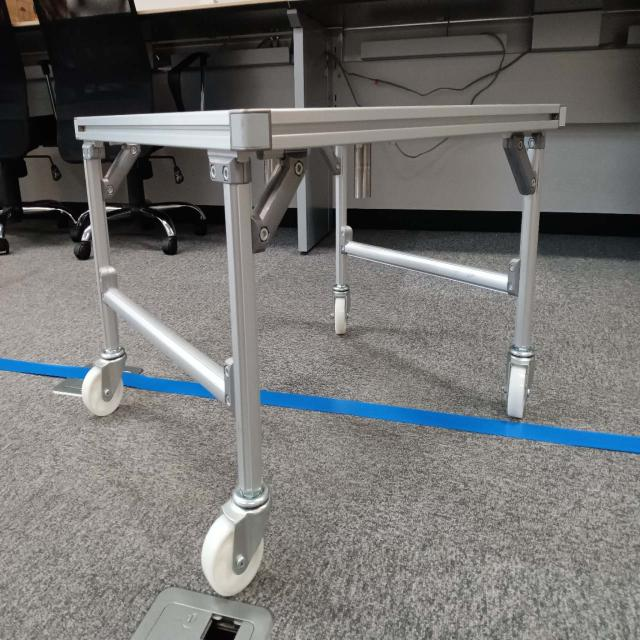door: (236, 106, 544, 253)
side: (78, 116, 249, 411)
